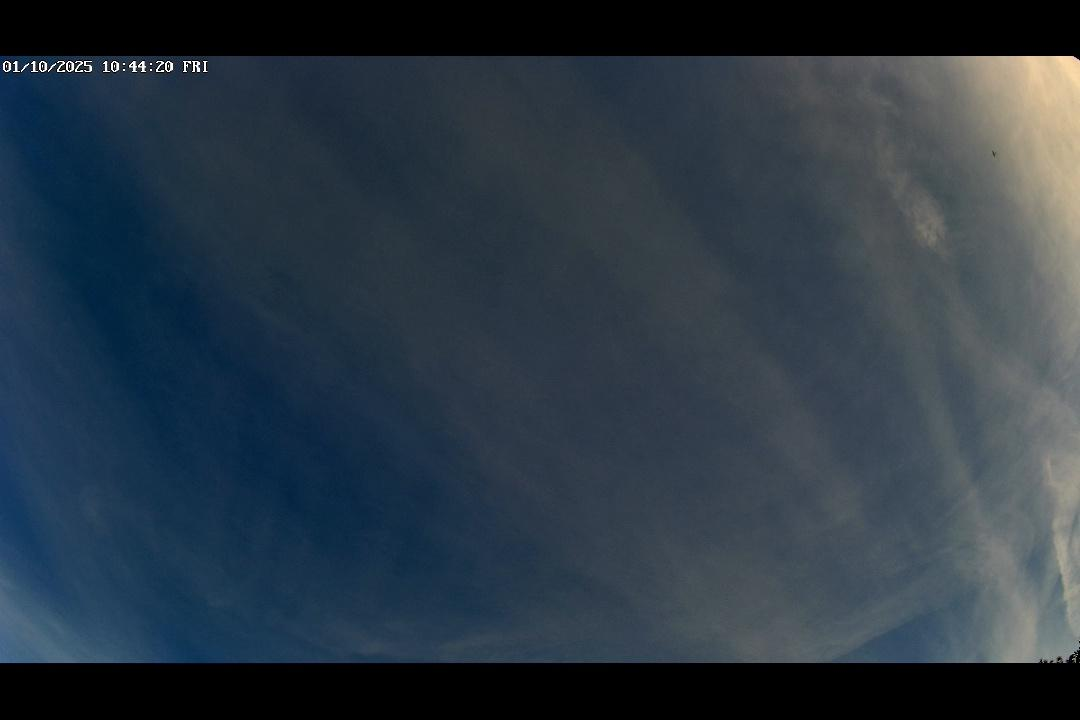Plane: (988, 147, 1001, 158)
